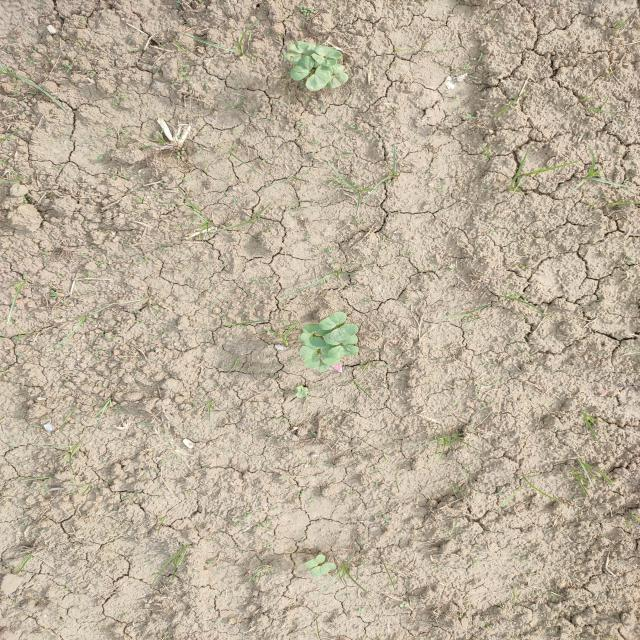seedling: (305, 65, 333, 91), (290, 54, 314, 81), (319, 312, 347, 330), (329, 324, 358, 341), (297, 332, 326, 349), (323, 333, 358, 346), (300, 346, 320, 368), (328, 345, 359, 359), (321, 343, 340, 365), (314, 45, 342, 59), (311, 562, 336, 577), (311, 53, 337, 67), (288, 41, 316, 54), (302, 324, 332, 336), (326, 72, 348, 88), (304, 554, 325, 568), (284, 50, 302, 64), (296, 387, 309, 398), (330, 64, 344, 74)
